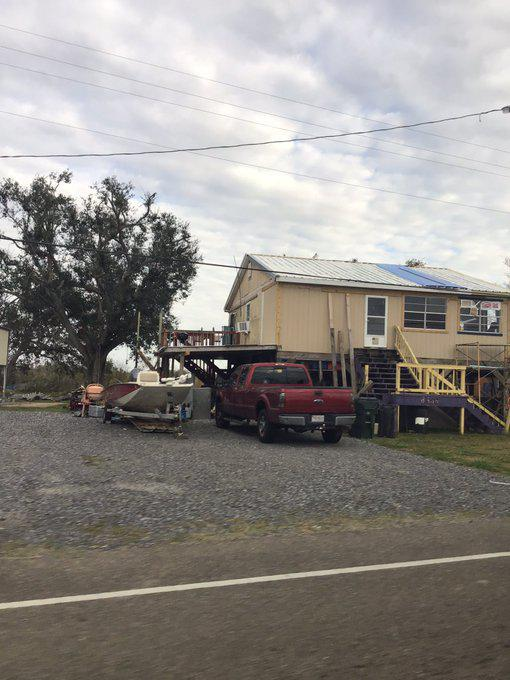affected: (138, 235, 510, 472)
